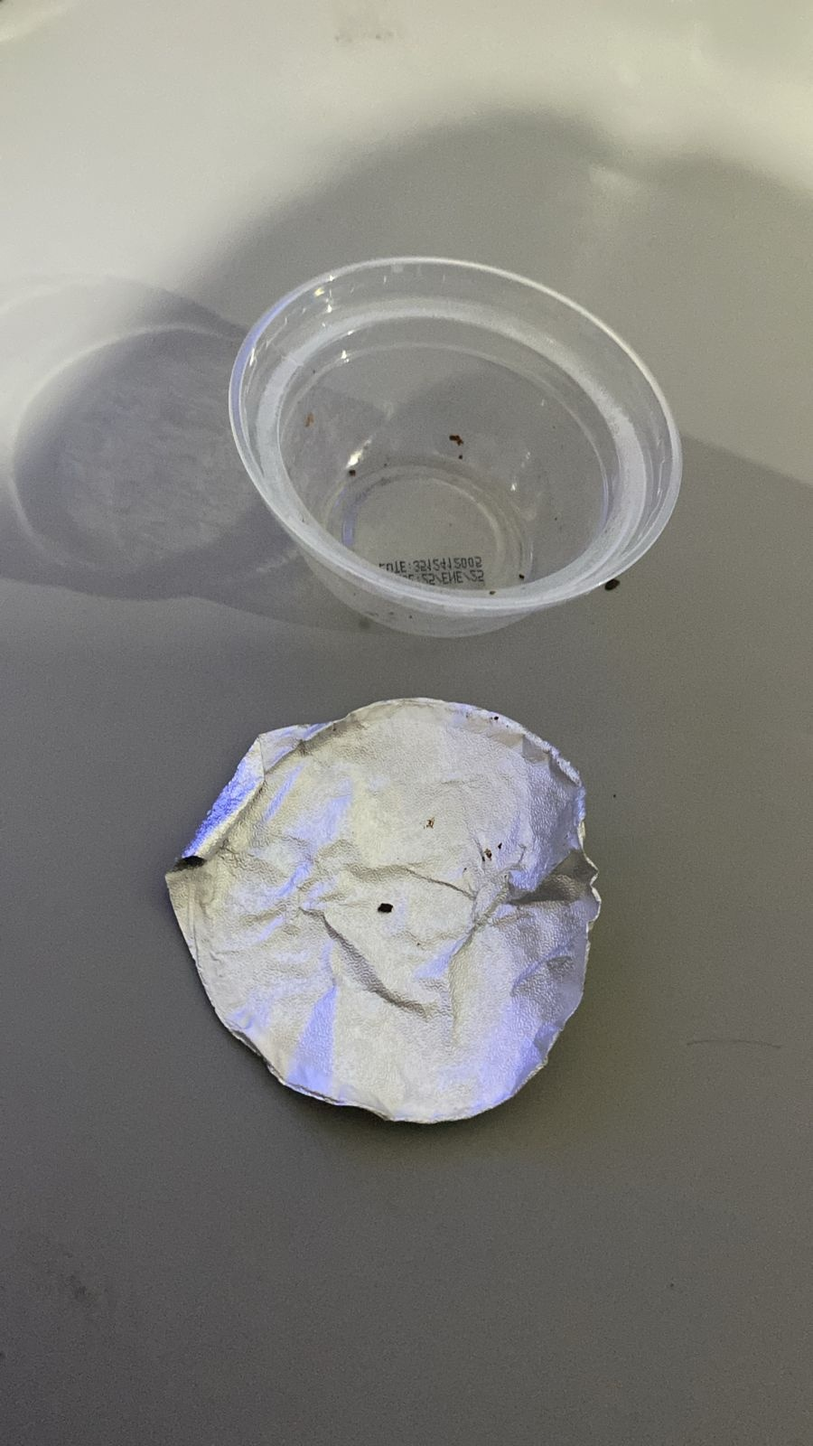Ordinario: (167, 698, 603, 1123), (226, 256, 687, 635)
